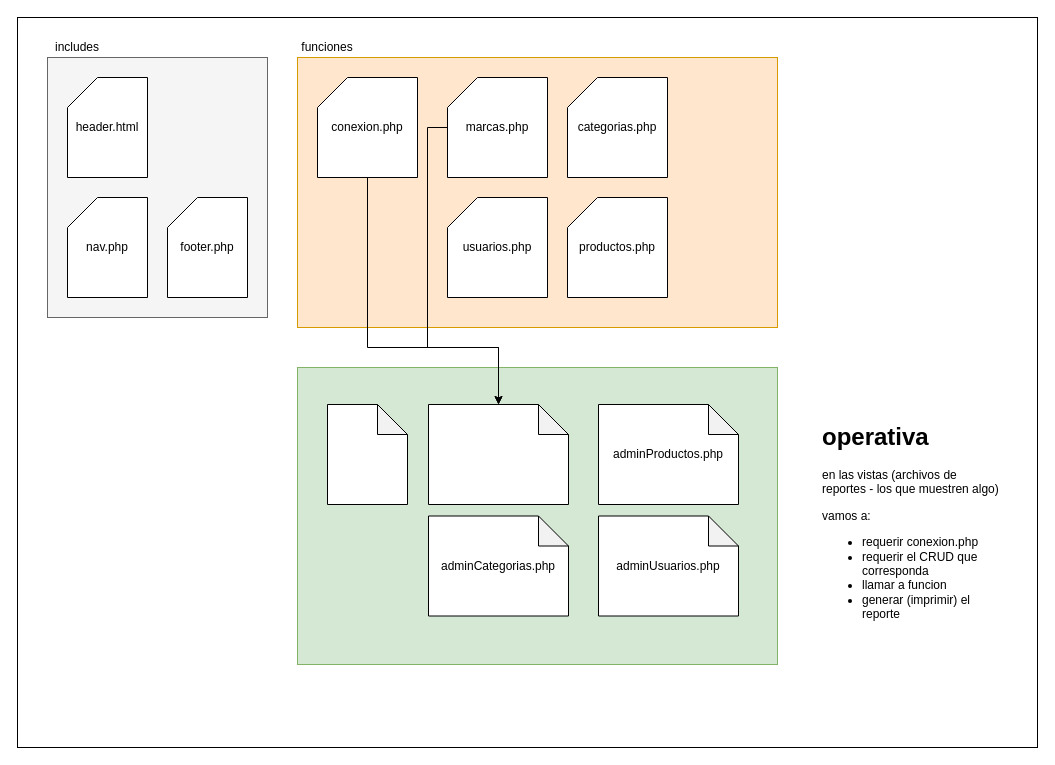
Image size: 1055x765. Some labels were removed from this diagram. The box of each missing label's shape, as (x1, y1, x2, y2) in pixels:
admin.php: (326, 404, 408, 504)
adminMarcas.php: (428, 404, 568, 504)
